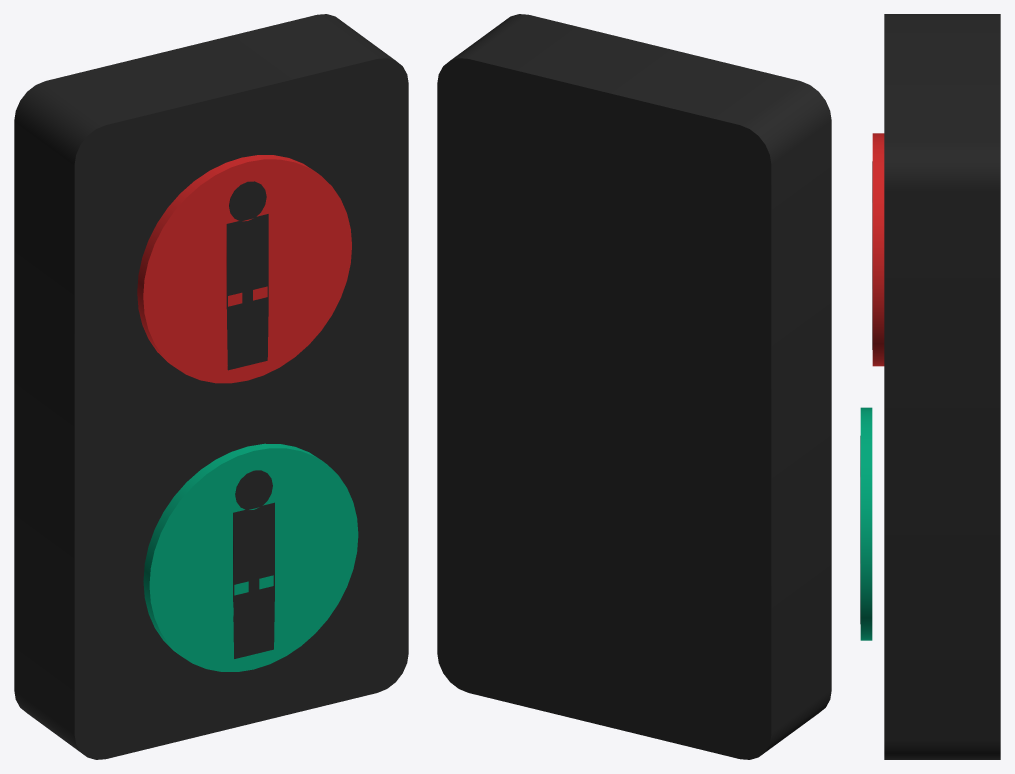
Rendered from R12pps.glb.
3 renders of one model, left to right at view 1: azimuth 30°, elevation 25°; view 2: azimuth 150°, elevation 25°; view 3: azimuth 270°, elevation 25°, orthographic. The views are drawn at different scales.
Parts seen in each view (by area): view 1: R12pps_r00, R12pps_d250, R12pps_d276, R12pps_s275, R12pps_s301; view 2: R12pps_r00; view 3: R12pps_r00, R12pps_d250, R12pps_d276.
Boxes of the visible parts, left/top/right/bottom form: R12pps_r00: left=14, top=14, right=408, bottom=759; R12pps_d250: left=137, top=155, right=351, bottom=383; R12pps_d276: left=143, top=443, right=358, bottom=671; R12pps_s275: left=226, top=181, right=268, bottom=370; R12pps_s301: left=233, top=470, right=274, bottom=658; R12pps_r00: left=437, top=14, right=831, bottom=759; R12pps_r00: left=884, top=14, right=1000, bottom=759; R12pps_d250: left=872, top=133, right=884, bottom=366; R12pps_d276: left=860, top=407, right=872, bottom=640.
Bounding box in the file's own units: 0.32 × 0.58 × 0.1208.
